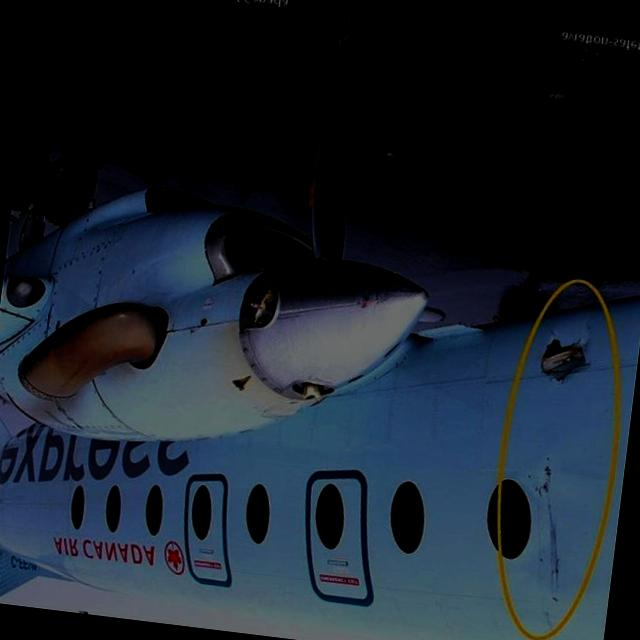crack: (545, 326, 563, 352)
dent: (580, 305, 600, 351)
